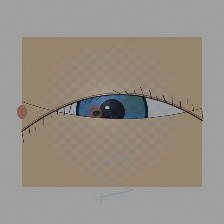foreign_body_visible: (63, 126, 104, 159)
